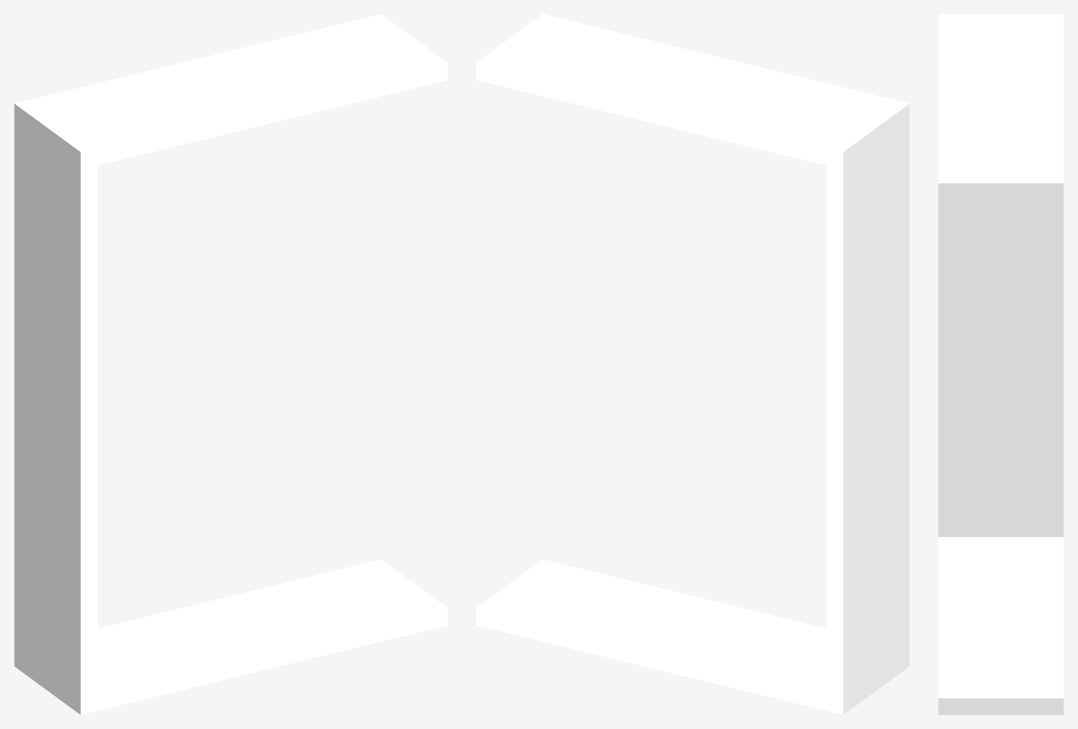
Rendered from 6a4ba3d5-3feb-48c6-b546-d2c43ad2d7c9.glb.
The picture shows the model from 3 angles, left to right: view 1: azimuth 30°, elevation 25°; view 2: azimuth 150°, elevation 25°; view 3: azimuth 270°, elevation 25°; orthographic projection. The views are drawn at different scales.
Parts seen in each view (by area): view 1: c_AlphaProta_White; view 2: c_AlphaProta_White; view 3: c_AlphaProta_White.
Part boxes in pixels (<box>): c_AlphaProta_White: <box>14,14,447,714</box>; c_AlphaProta_White: <box>476,14,909,714</box>; c_AlphaProta_White: <box>938,14,1063,714</box>.
Size of what is drawn, in the model's own units: 0.1436 by 0.2105 by 0.045.
2 materials, 2 textured.
